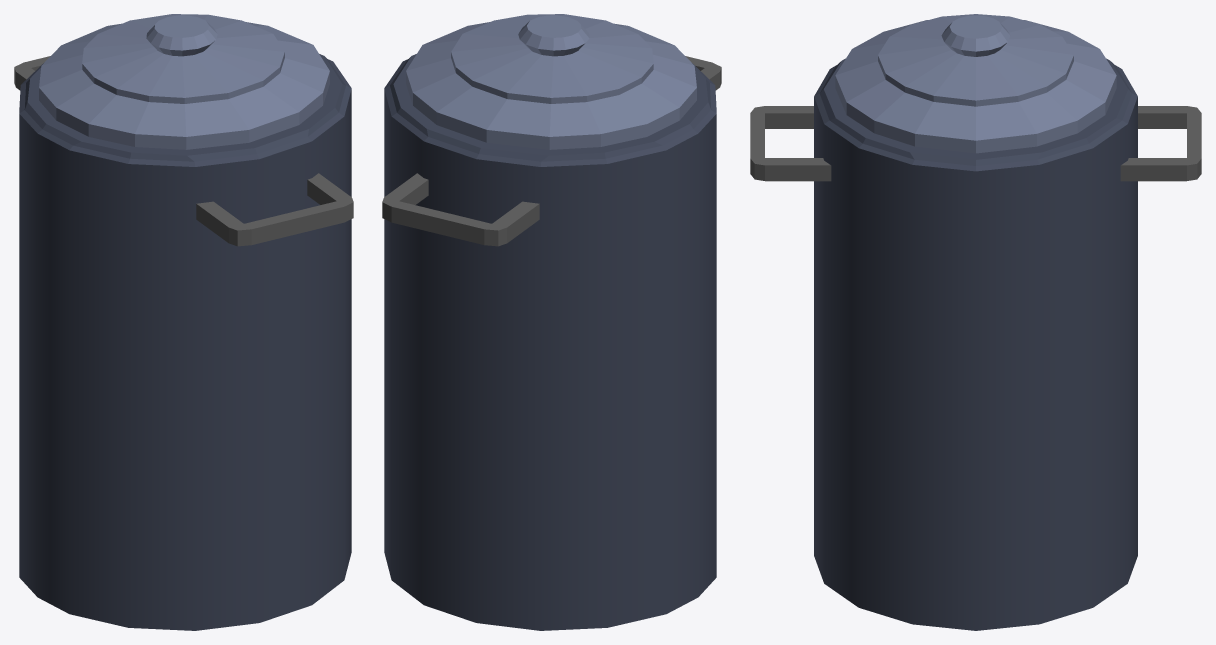
File: SM_bin_02.fbx
3 views of the same model, side by side, from view 1: azimuth 30°, elevation 25°; view 2: azimuth 150°, elevation 25°; view 3: azimuth 270°, elevation 25° (orthographic).
Visible parts, largest first — view 1: bin_02; view 2: bin_02; view 3: bin_02.
Part boxes in pixels (x1,y1,x2,y2): bin_02: (14,14,353,630); bin_02: (382,14,721,630); bin_02: (750,14,1201,630).
Bounding box in the file's own units: 58.47 × 101 × 78.08.
